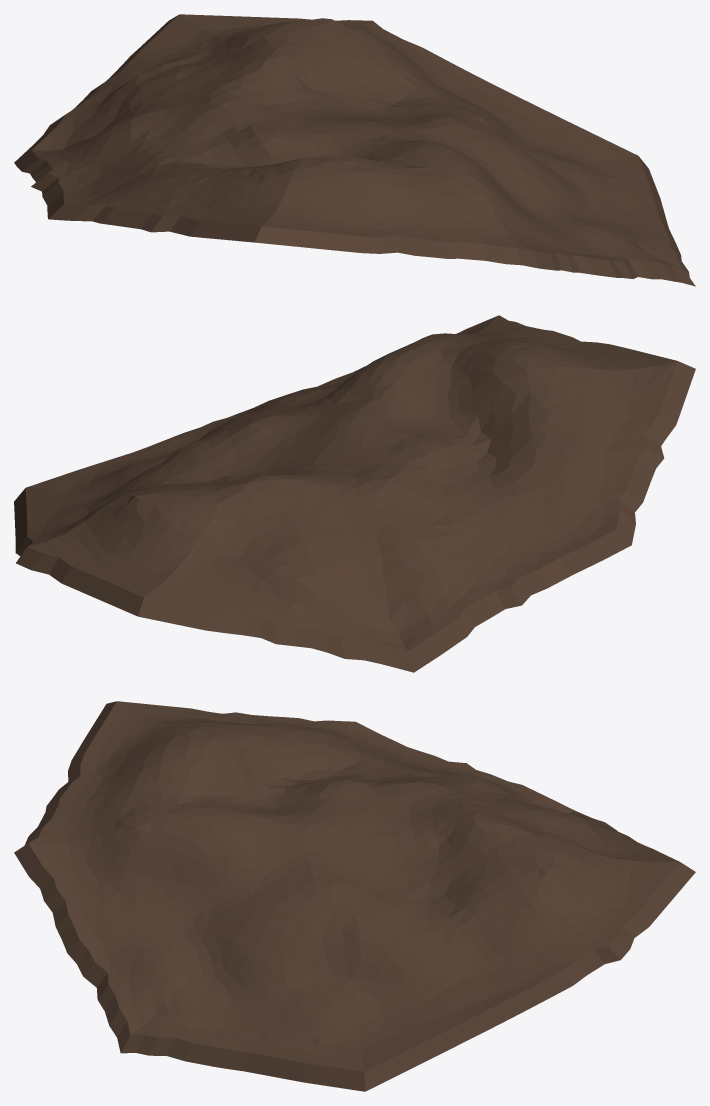
The model's file is DigSpot.fbx.
3 views of the same model, one above another, from view 1: azimuth 30°, elevation 25°; view 2: azimuth 150°, elevation 25°; view 3: azimuth 270°, elevation 25° (orthographic). The views are drawn at different scales.
Visible parts, largest first — view 1: Cube.004; view 2: Cube.004; view 3: Cube.004.
Boxes of the visible parts, x1=… form: Cube.004: x1=14, y1=14, x2=695, y2=286; Cube.004: x1=14, y1=315, x2=695, y2=672; Cube.004: x1=14, y1=701, x2=695, y2=1091.
Bounding box in the file's own units: 130 × 36.56 × 137.
